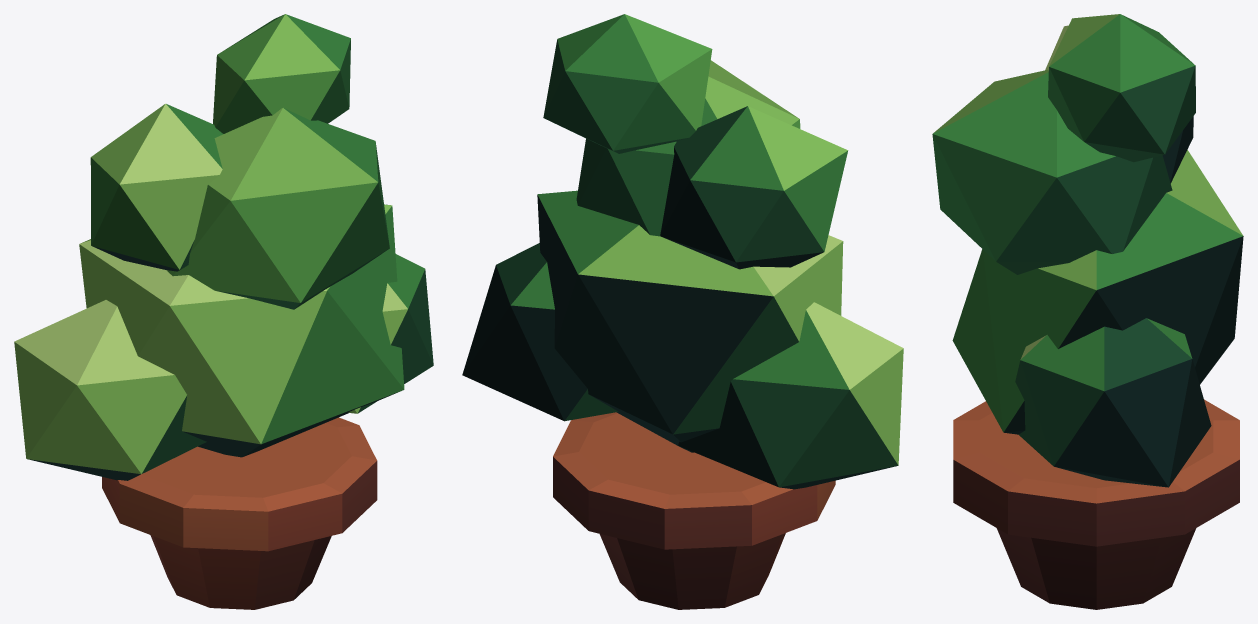
The model's file is plant.glb.
3 views of the same model, side by side, from view 1: azimuth 30°, elevation 25°; view 2: azimuth 150°, elevation 25°; view 3: azimuth 270°, elevation 25° (orthographic). The views are drawn at different scales.
Visible parts, largest first — view 1: plant; view 2: plant; view 3: plant.
Part boxes in pixels (bbox=[...]): plant: bbox=[14, 14, 433, 609]; plant: bbox=[462, 14, 903, 609]; plant: bbox=[932, 14, 1243, 609].
Bounding box in the file's own units: 0.6324 × 0.8244 × 0.3922.
